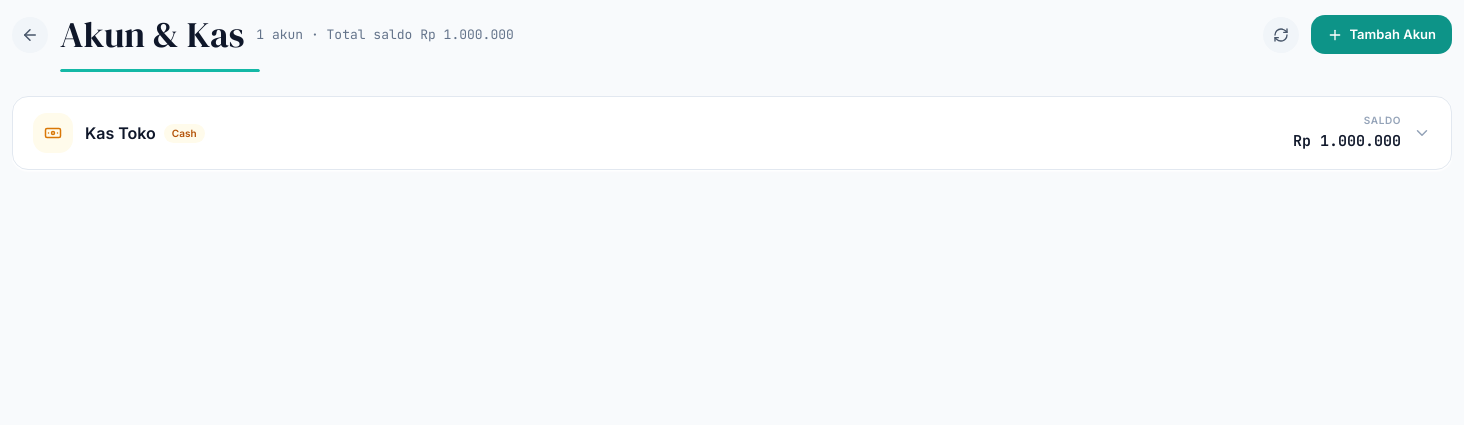
AkunKas page › exposes edit / archive / delete / adjustment actions for an active account (Req 9.6)
What coordinates should you click on to do the following:
click the button "Kas Toko Cash Saldo Rp 1.000.000"
I would click on:
 (53, 133)
Its box is [13, 97, 1451, 169].
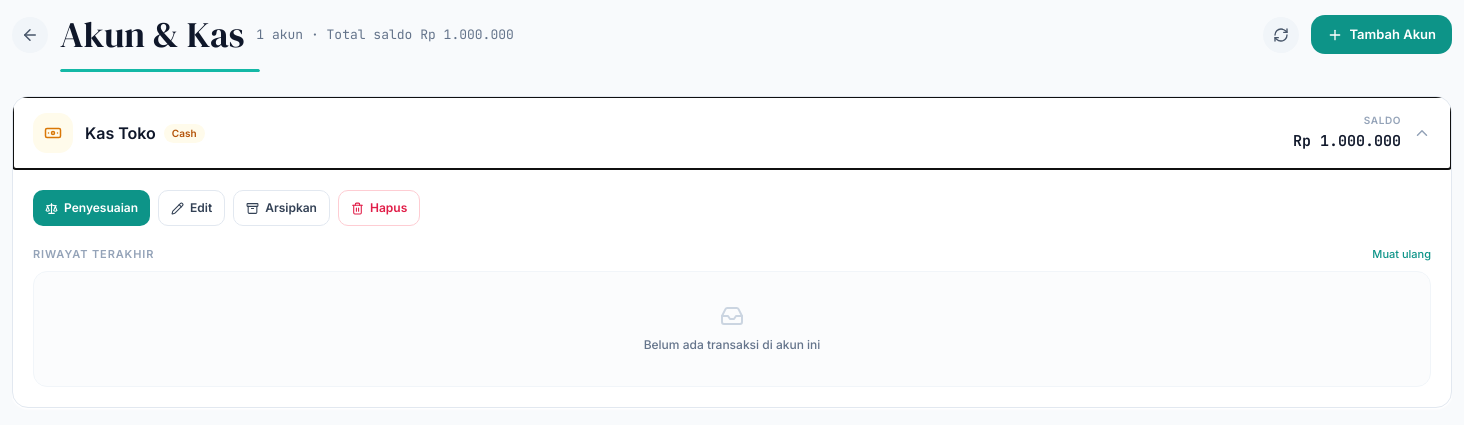
Result: the button "Penyesuaian" is shown at [33, 190, 150, 226]
Result: the button "Edit" is shown at [158, 190, 225, 226]
Result: the button "Arsipkan" is shown at [233, 190, 330, 226]
